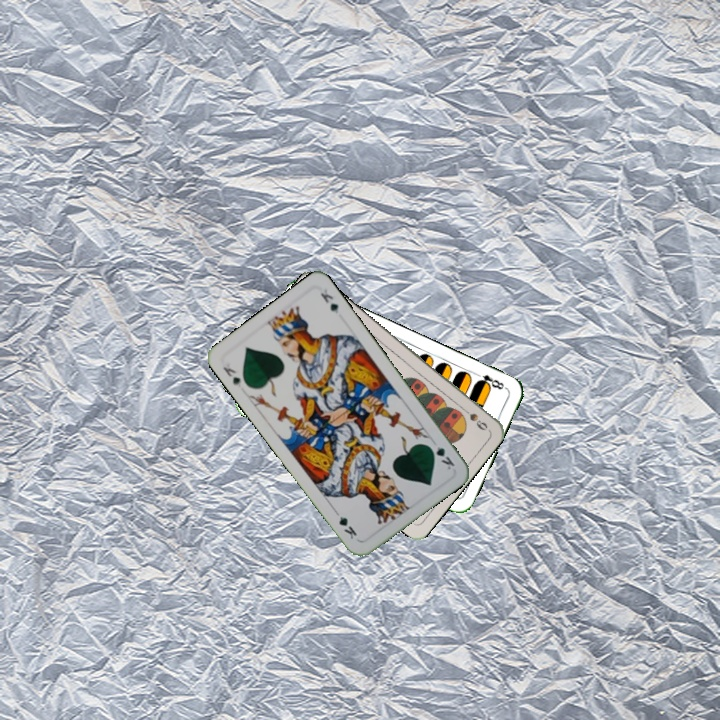E8: (471, 369, 509, 392)
GK: (424, 441, 457, 472), (219, 362, 244, 390)
S9: (456, 402, 490, 433)
